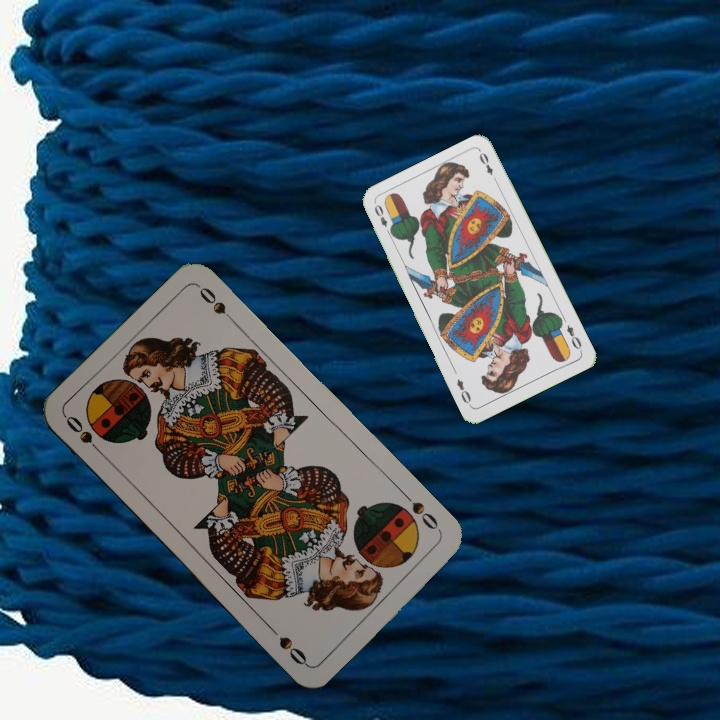EO: (370, 200, 395, 238), (562, 321, 584, 354)
SO: (61, 411, 107, 459), (399, 489, 444, 536)
